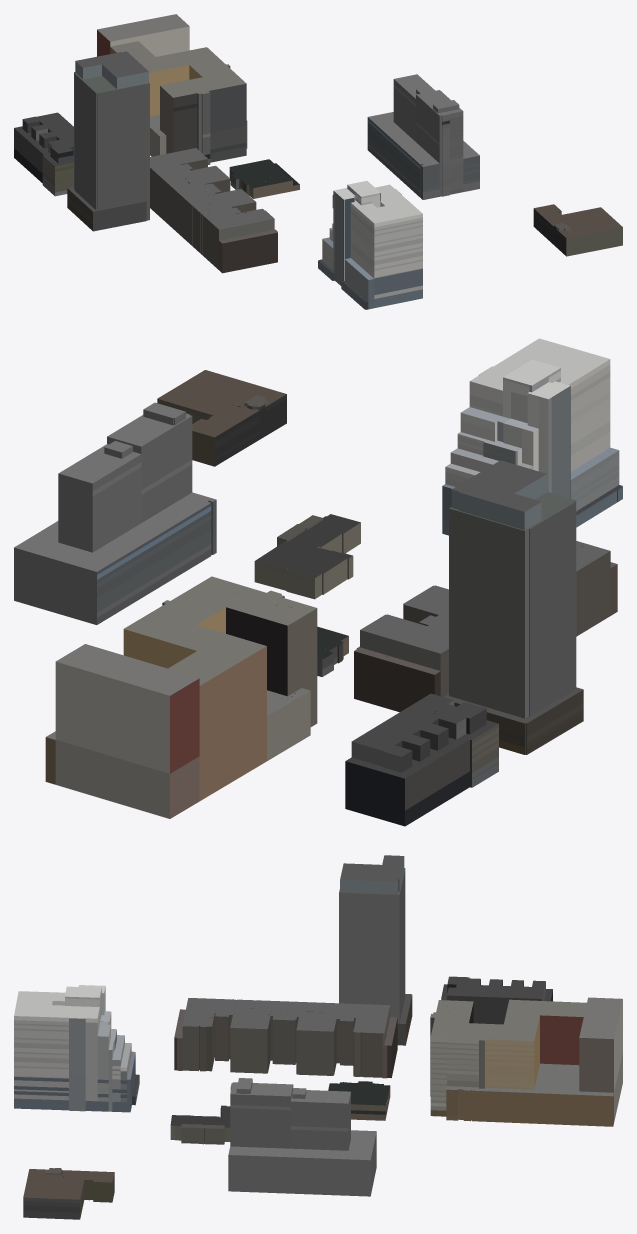
The model's file is t_-2_-1.far.glb.
The picture shows the model from 3 angles, top to bottom: view 1: azimuth 30°, elevation 25°; view 2: azimuth 150°, elevation 25°; view 3: azimuth 270°, elevation 25°; orthographic projection. The views are drawn at different scales.
Parts seen in each view (by area): view 1: opaque; view 2: opaque; view 3: opaque.
Part boxes in pixels (bbox=[...]): opaque: bbox=[14, 14, 622, 309]; opaque: bbox=[14, 338, 622, 826]; opaque: bbox=[14, 855, 622, 1219].
Size of the model in its own units: 265 by 97.11 by 331.
Materials: 1 (1 with a texture image).
